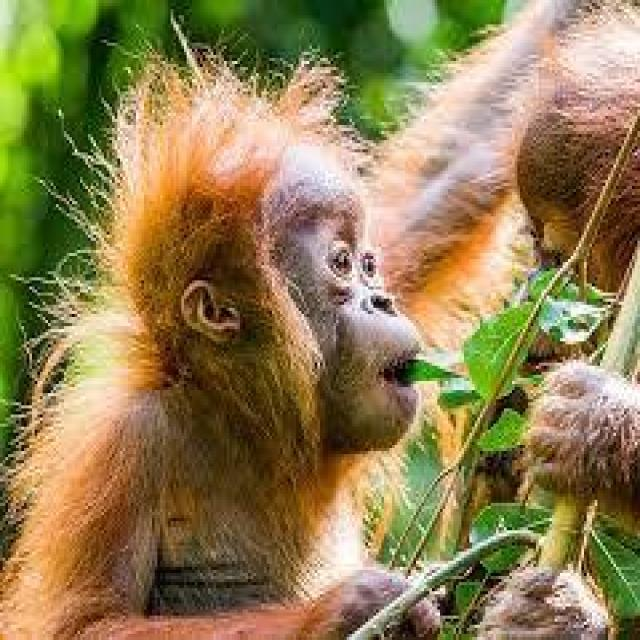Chimpanzee: (92, 55, 439, 521), (445, 73, 640, 515)
